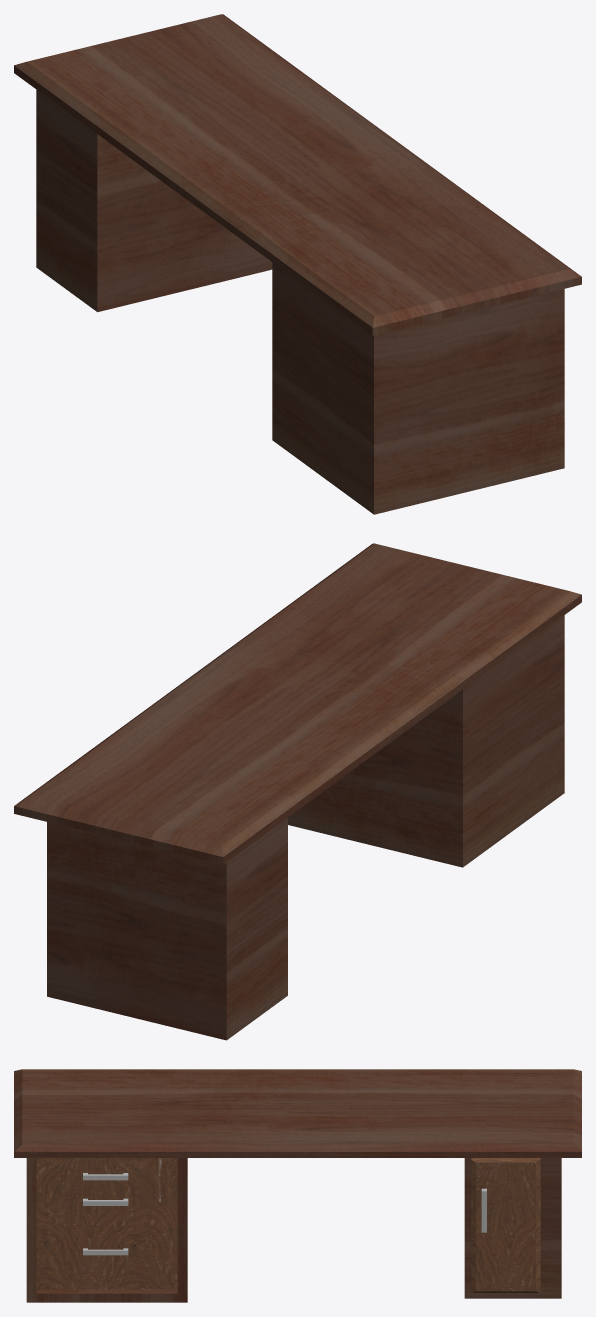
The model's file is Table.fbx.
3 renders of one model, top to bottom at view 1: azimuth 30°, elevation 25°; view 2: azimuth 150°, elevation 25°; view 3: azimuth 270°, elevation 25°, orthographic. The views are drawn at different scales.
Visible parts, largest first — view 1: Table; view 2: Table; view 3: Table.
Part boxes in pixels (box(x1,y1,x2,y2)): Table: box(14, 14, 581, 514); Table: box(14, 543, 581, 1040); Table: box(14, 1069, 581, 1302).
Size of the model in its own units: 114 by 104 by 338.
